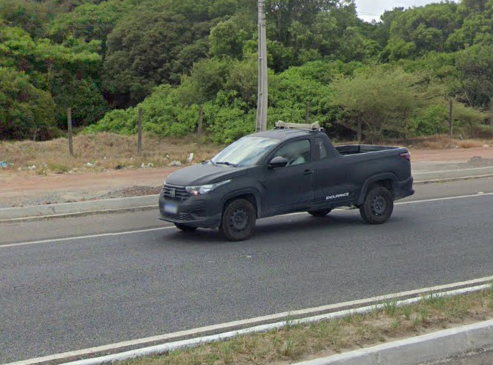car: (157, 121, 416, 241)
